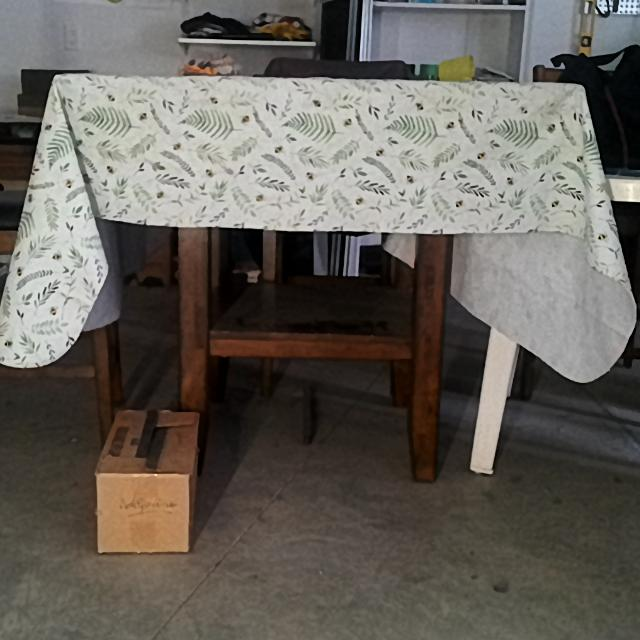box: (96, 474, 189, 554)
